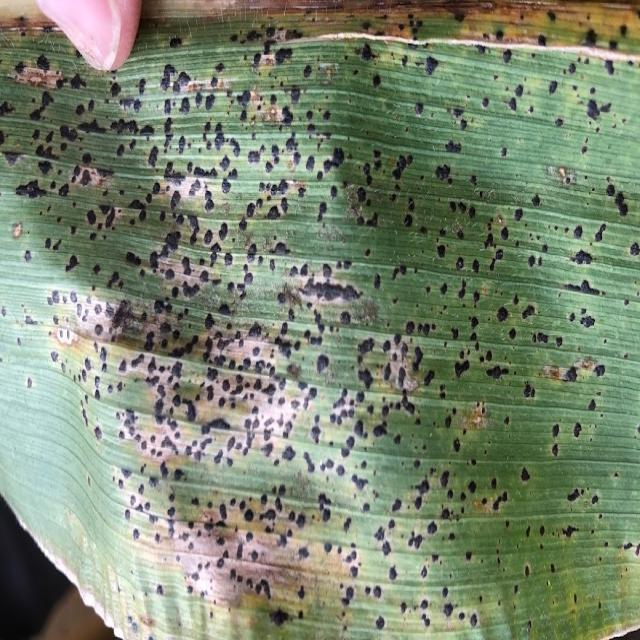Tar_Spot: (1, 14, 638, 637)
